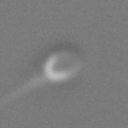normal: (1, 73, 46, 107)
